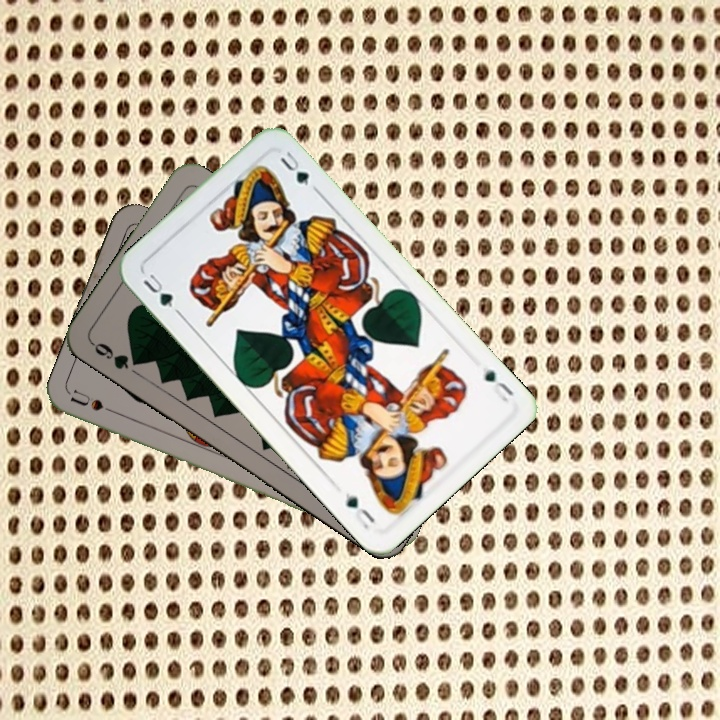G9: (87, 338, 145, 372)
GU: (139, 269, 178, 311), (480, 364, 517, 405)
SU: (67, 387, 125, 419)
